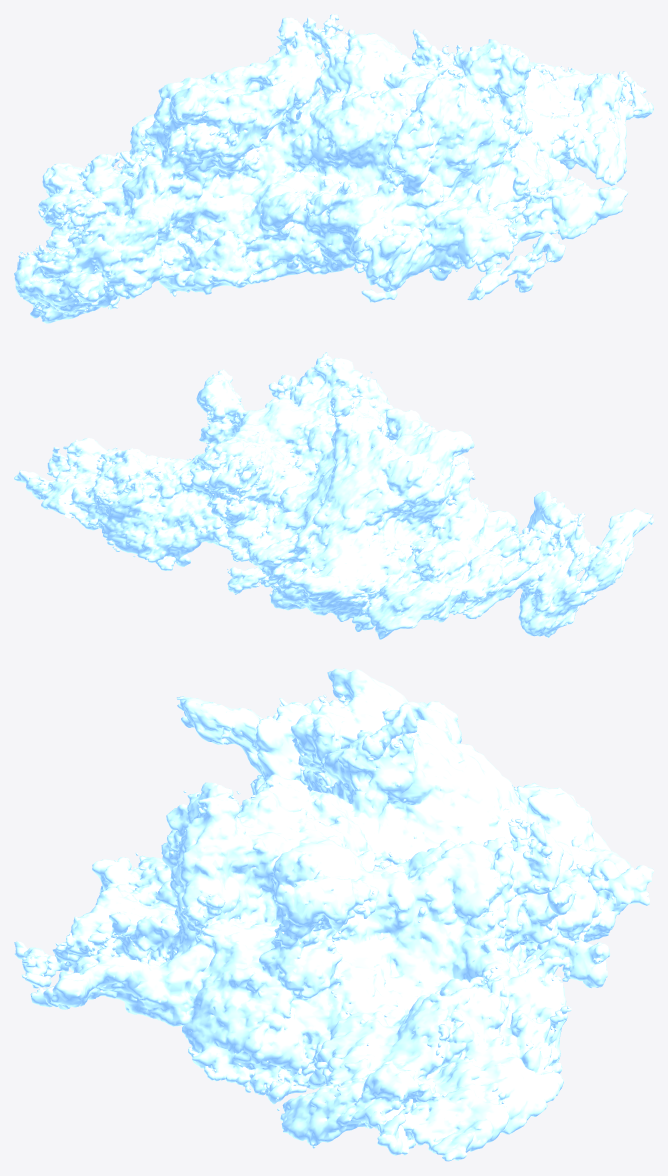
3 renders of one model, top to bottom at view 1: azimuth 30°, elevation 25°; view 2: azimuth 150°, elevation 25°; view 3: azimuth 270°, elevation 25°, orthographic. The views are drawn at different scales.
Parts seen in each view (by area): view 1: Cloud_Polygon_Blender_8_2; view 2: Cloud_Polygon_Blender_8_2; view 3: Cloud_Polygon_Blender_8_2.
Boxes of the visible parts, x1,y1,x2,y2 form: Cloud_Polygon_Blender_8_2: [14, 14, 653, 323]; Cloud_Polygon_Blender_8_2: [14, 352, 653, 639]; Cloud_Polygon_Blender_8_2: [14, 668, 653, 1161].
Bounding box in the file's own units: 1.33 × 0.4463 × 0.8516.
